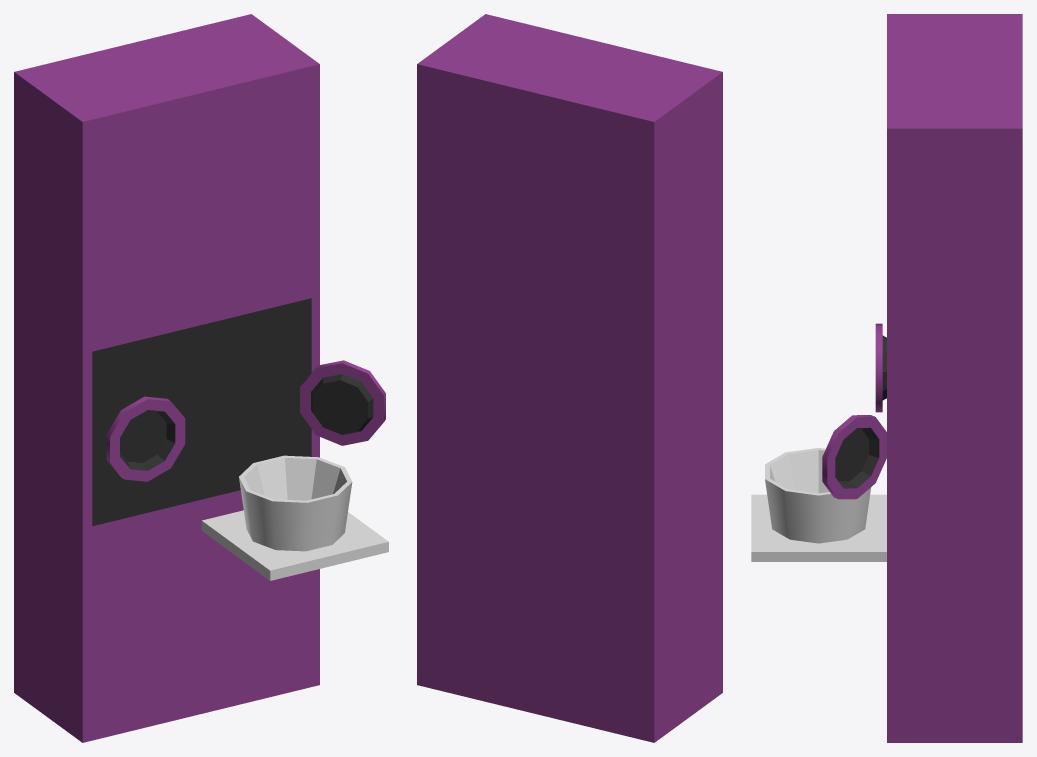
The model's file is machine double.FBX.
3 views of the same model, side by side, from view 1: azimuth 30°, elevation 25°; view 2: azimuth 150°, elevation 25°; view 3: azimuth 270°, elevation 25° (orthographic).
Parts seen in each view (by area): view 1: meuble machine a laver double, bassine ronde, porte machine a laver, pose panier a linge, porte machine a laver001; view 2: meuble machine a laver double; view 3: meuble machine a laver double, bassine ronde, pose panier a linge, porte machine a laver, porte machine a laver001.
Part boxes in pixels (bbox=[...]): meuble machine a laver double: bbox=[14, 14, 319, 742]; bassine ronde: bbox=[239, 455, 352, 551]; porte machine a laver: bbox=[300, 360, 385, 445]; pose panier a linge: bbox=[201, 510, 388, 580]; porte machine a laver001: bbox=[106, 396, 185, 481]; meuble machine a laver double: bbox=[417, 14, 722, 742]; meuble machine a laver double: bbox=[887, 14, 1022, 742]; bassine ronde: bbox=[765, 448, 871, 543]; pose panier a linge: bbox=[751, 494, 886, 561]; porte machine a laver: bbox=[822, 415, 886, 499]; porte machine a laver001: bbox=[875, 323, 886, 412].
Bounding box in the file's own units: 138 × 300 × 120.
